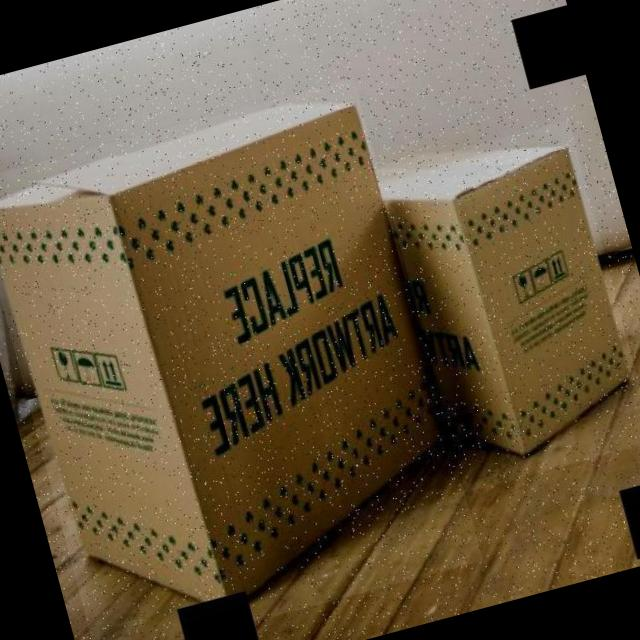box: (0, 77, 483, 640), (379, 119, 640, 492)
